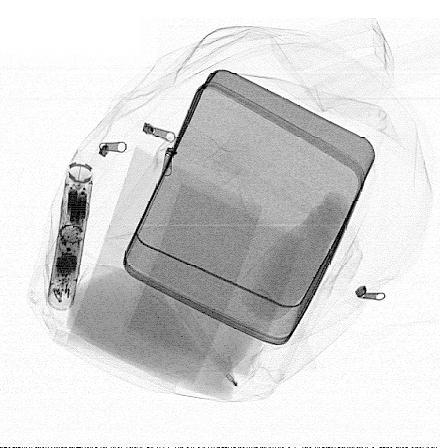Baton: (46, 160, 95, 314)
